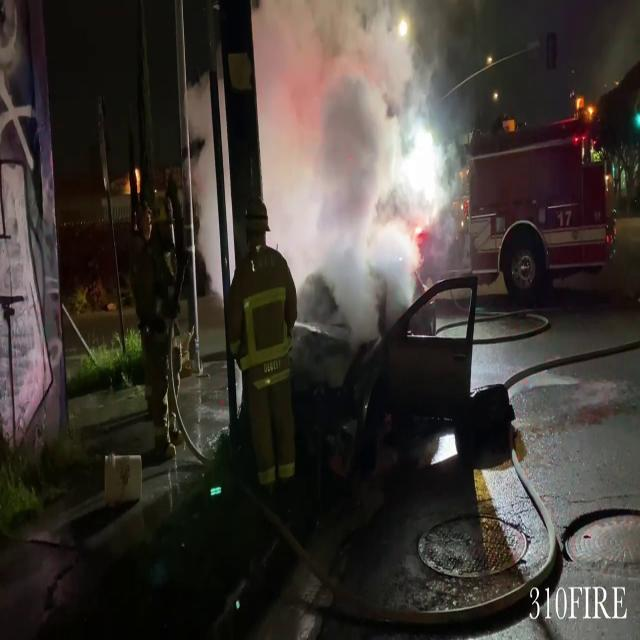Smoke: (264, 0, 474, 309)
